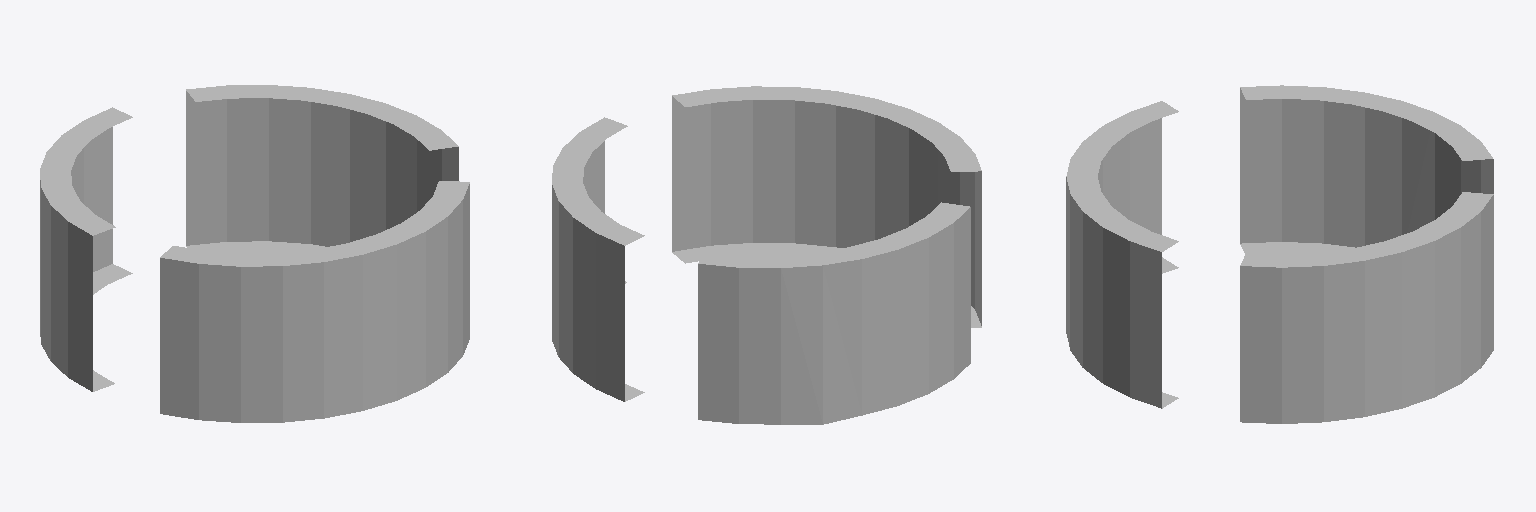
Rendered from salaprue5color.obj.
3 views of the same model, side by side, from view 1: azimuth 30°, elevation 25°; view 2: azimuth 150°, elevation 25°; view 3: azimuth 270°, elevation 25° (orthographic).
Parts seen in each view (by area): view 1: Cylinder; view 2: Cylinder; view 3: Cylinder.
Part boxes in pixels (x1,y1,x2,y2): Cylinder: (40,85,469,422); Cylinder: (552,86,981,424); Cylinder: (1066,85,1493,423).
Bounding box in the file's own units: 50 × 20.31 × 49.52.